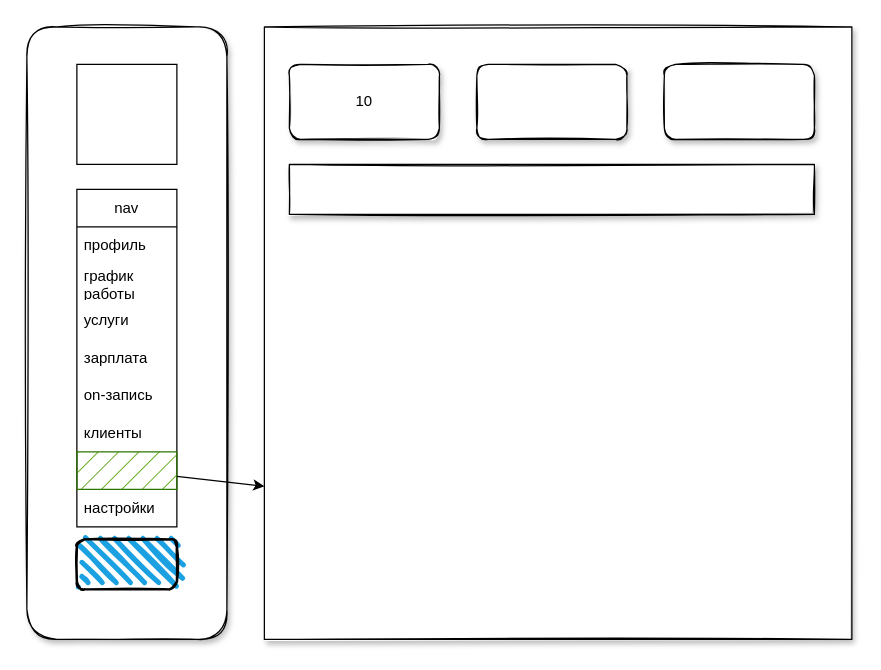
Image size: 881x670. Some labels were removed from this diagram. Each missing label, with the centre of its shape:
"визиты" goes at [126,470].
"ФИЛЬТРЫ" goes at [552,190].
